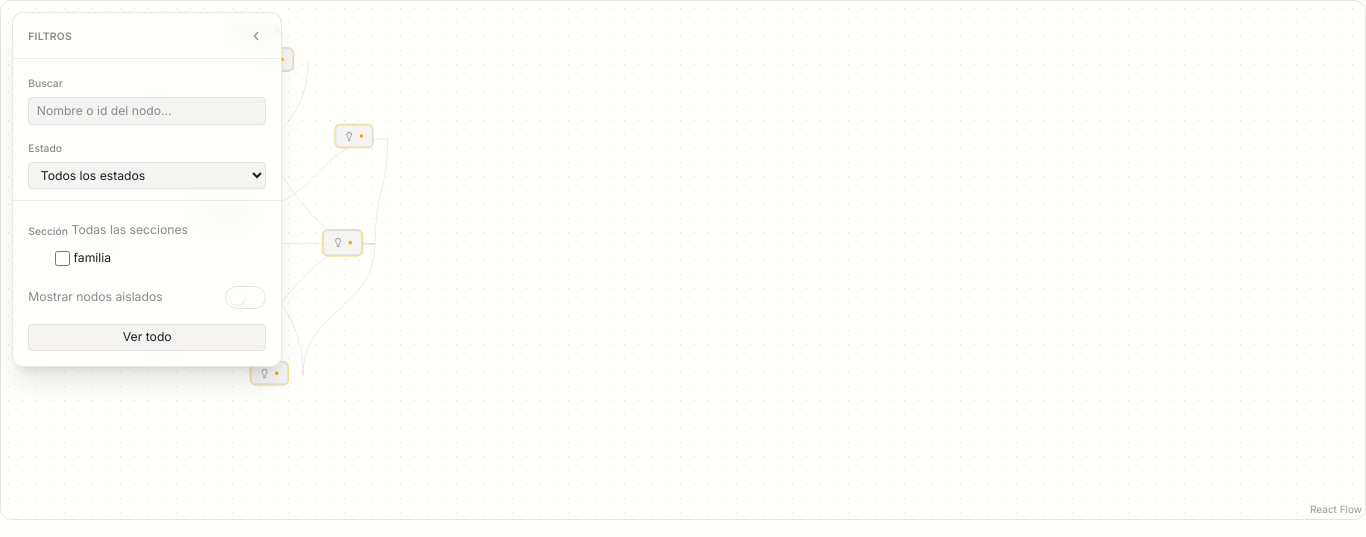
Test: GraphView › labels only the folder main when several nodes clear the hub threshold
Check: the text "Zeta" is not shown
Hover over the 6th element with class "react-flow__node": (343, 243) x1=323 y1=230 x2=363 y2=256
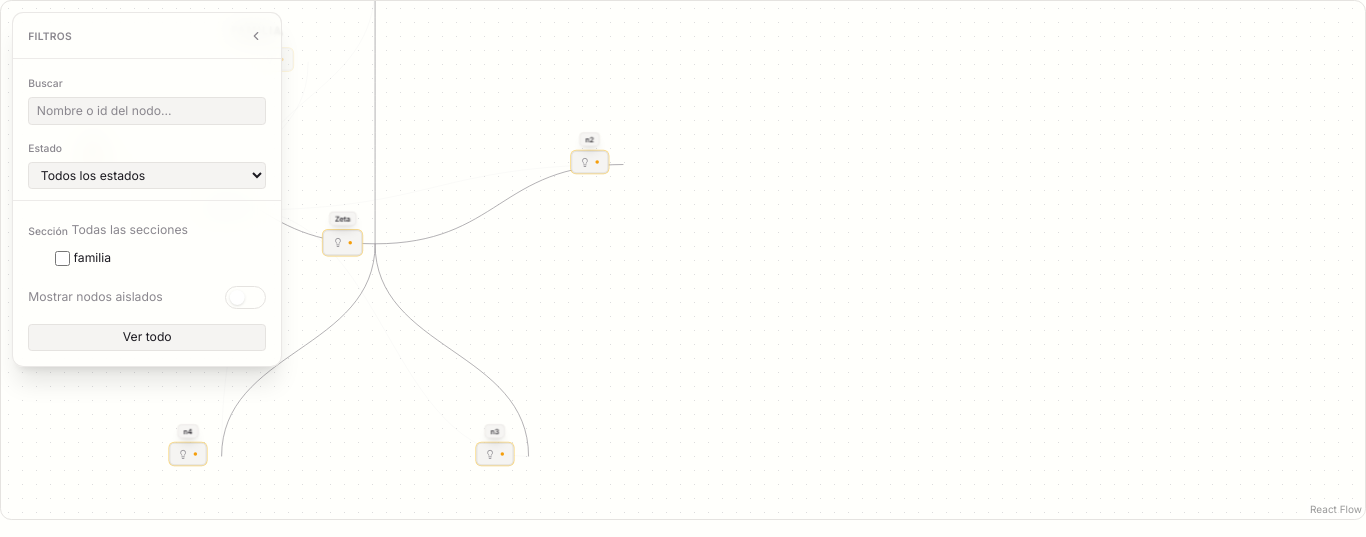
Check: the text "Zeta" is shown, box x1=329 y1=212 x2=356 y2=226
